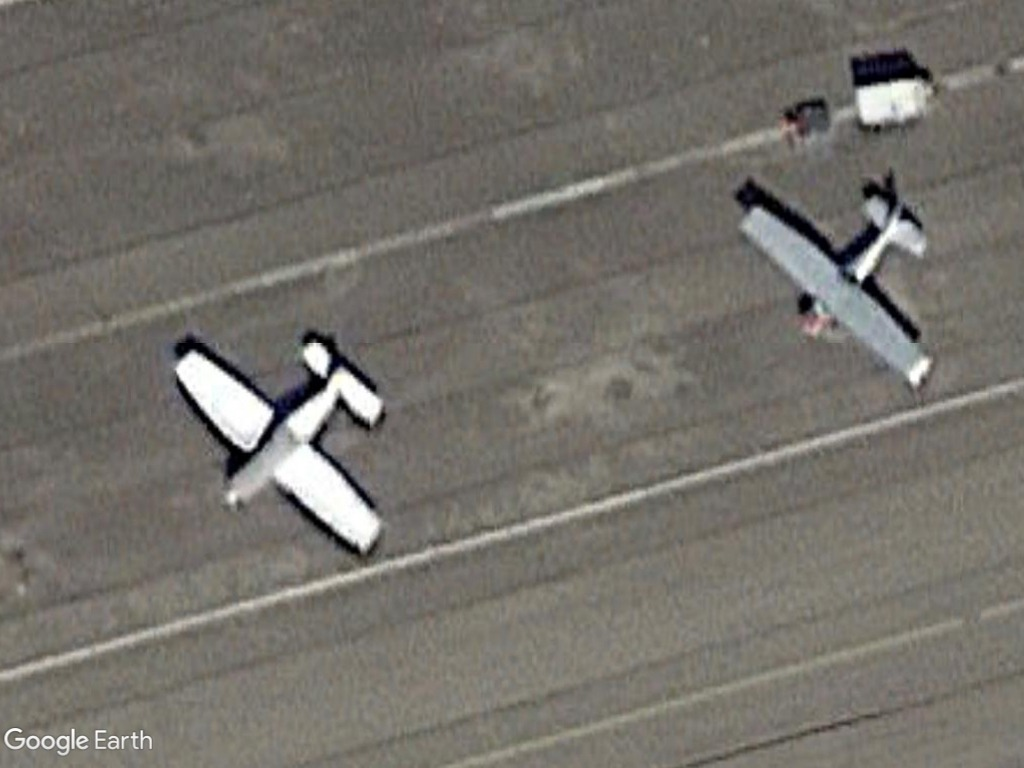trainer: (168, 330, 393, 566), (739, 182, 938, 397)
